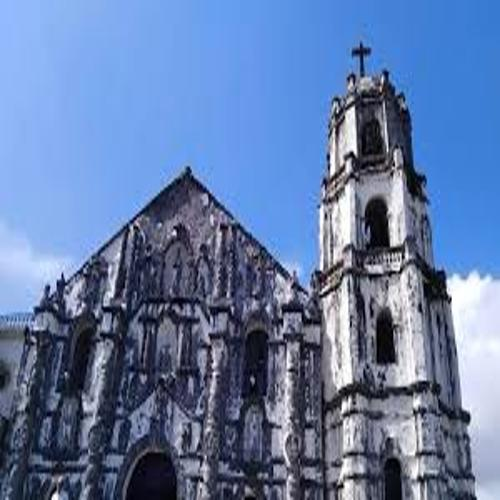Daraga Church: (20, 43, 477, 500)
